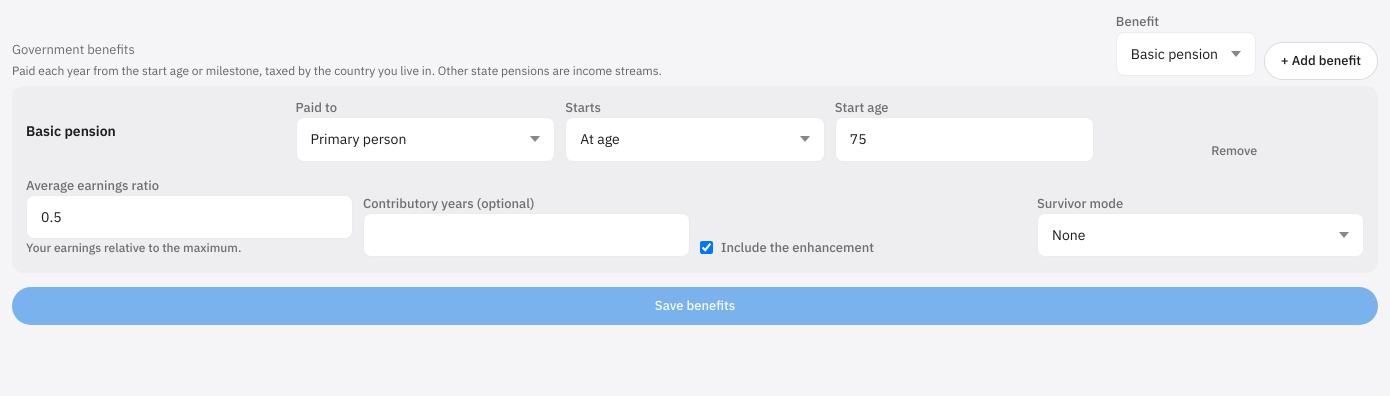
Test case: benefits editor › shows the server's rejection and keeps the draft
Replace the text in the number field labelled "Start age" with "72" at {"x": 965, "y": 139}, box top-left (835, 117), bottom-right (1094, 162)
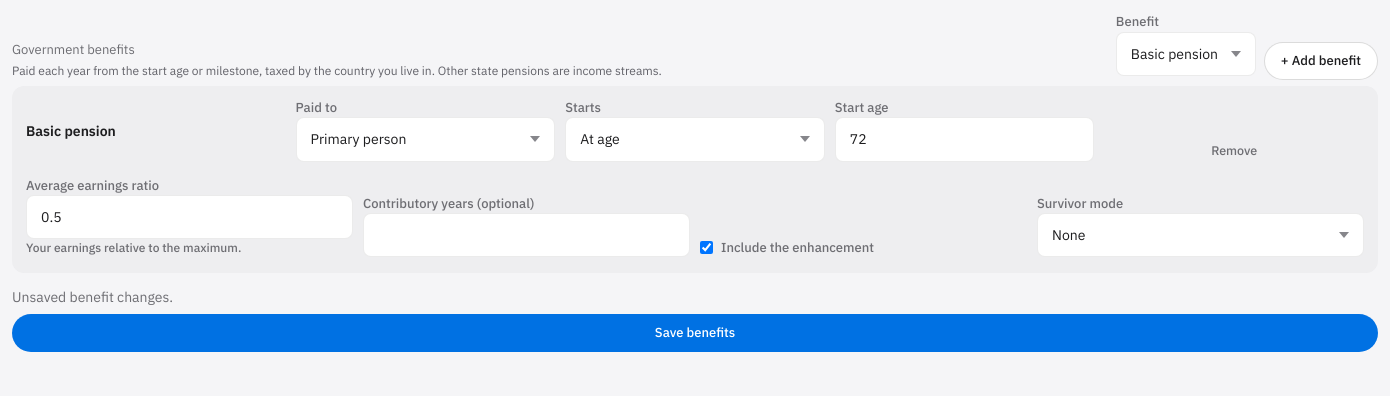
Click the button "Save benefits".
click(695, 333)  # box top-left (12, 314), bottom-right (1378, 352)
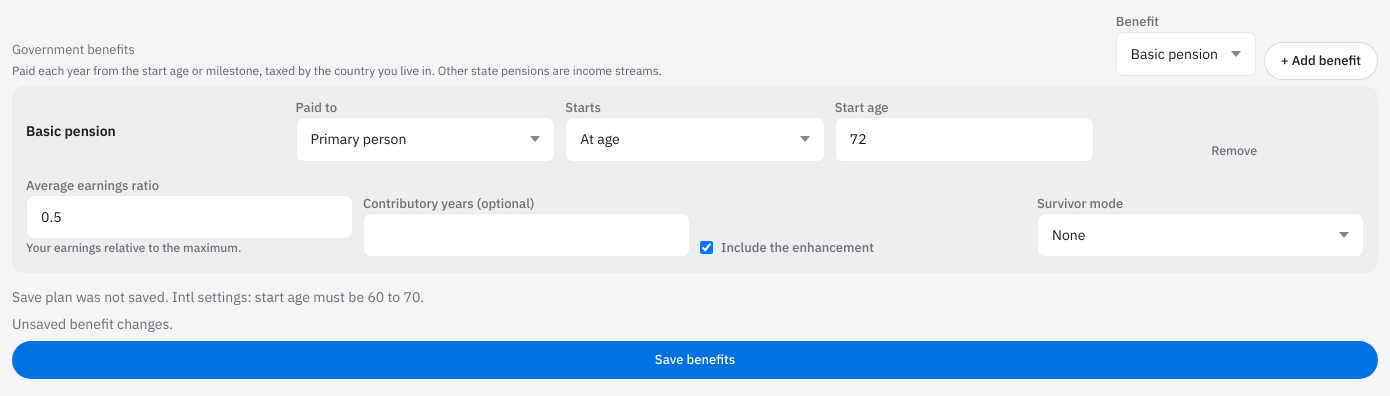
Result: the text "Unsaved benefit changes." is shown at top-left (12, 315), bottom-right (173, 333)
Result: the text "Save plan was not saved. Intl settings: start age must be 60 to 70." is shown at top-left (12, 288), bottom-right (424, 306)
